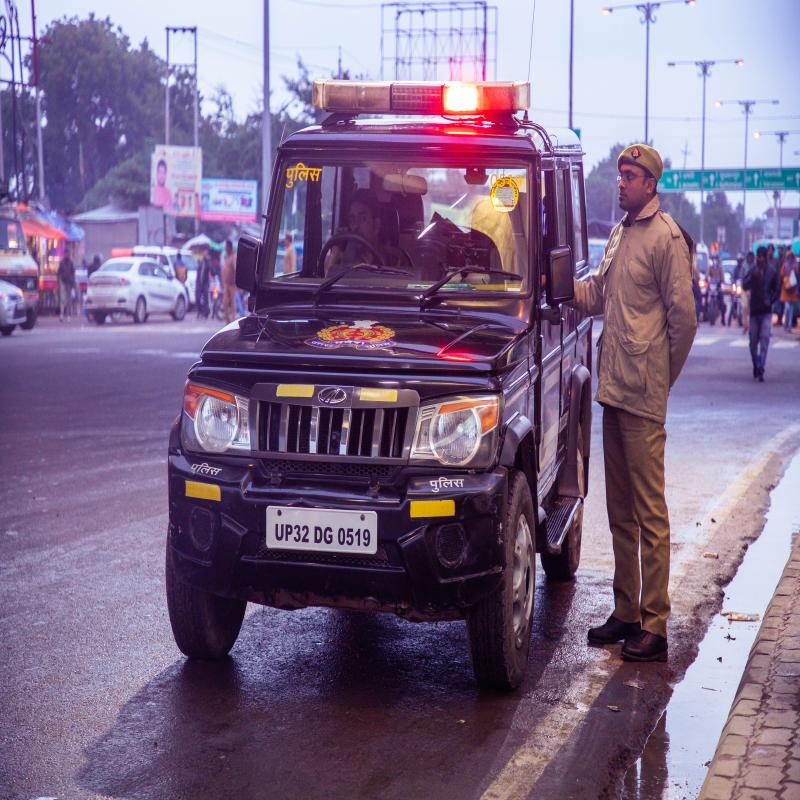car: (149, 38, 600, 694)
